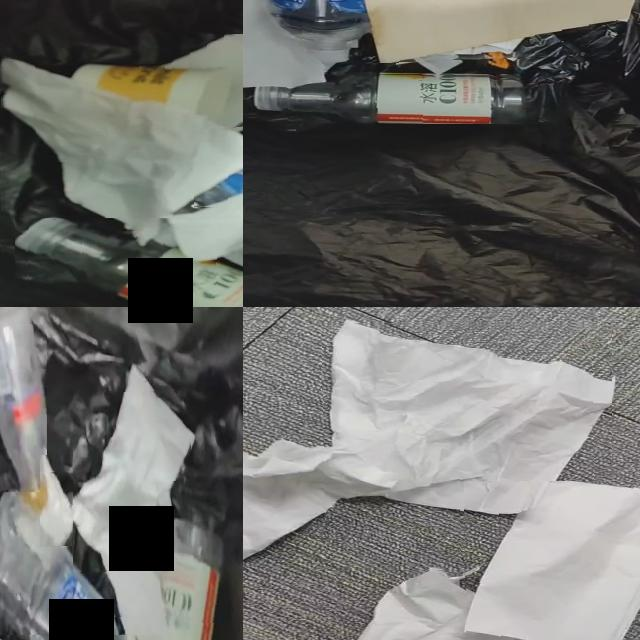bottle: (15, 218, 243, 307), (0, 492, 130, 640), (254, 73, 538, 124), (0, 307, 47, 514), (269, 0, 374, 70), (167, 521, 225, 640)
carton: (366, 0, 634, 63)
dixie_cup: (71, 65, 235, 120)
paper: (243, 322, 612, 559), (1, 59, 243, 271), (73, 369, 193, 640), (466, 481, 640, 640), (357, 570, 499, 640), (165, 34, 243, 129), (243, 0, 324, 88), (40, 455, 74, 546), (419, 46, 524, 74)
